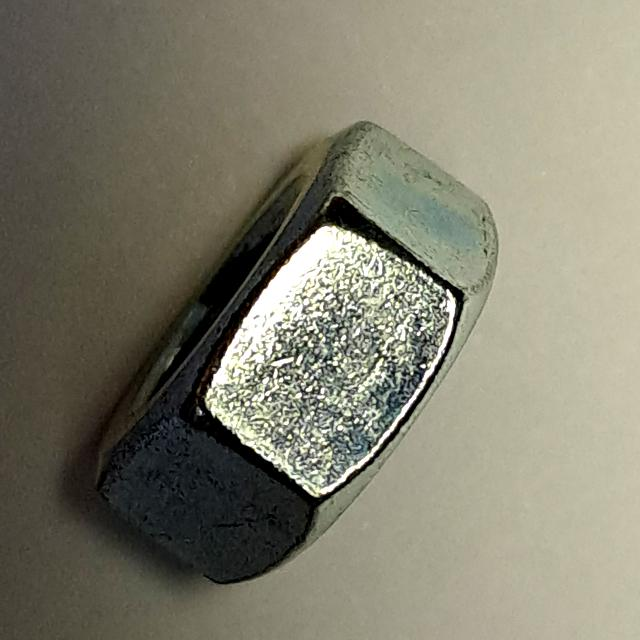Side_Excellent: (83, 102, 509, 603)
